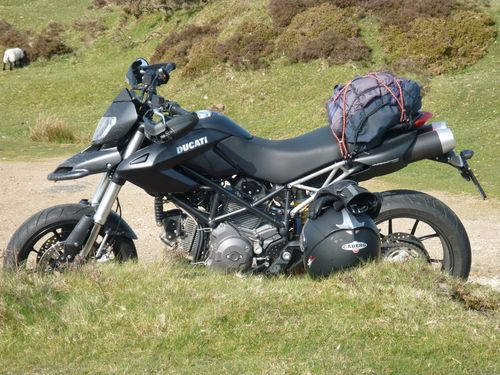摩托车: (3, 57, 493, 282)
